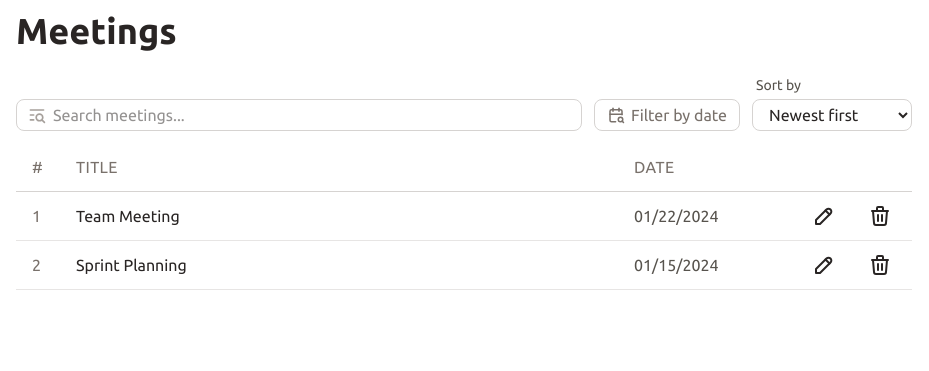
Scenario: MeetingList – date filter toggle › clicking the toggle again hides the date filter panel
This screenshot has width=929, height=371.
Click the button "Filter by date" at (667, 115), box [594,99,740,131]
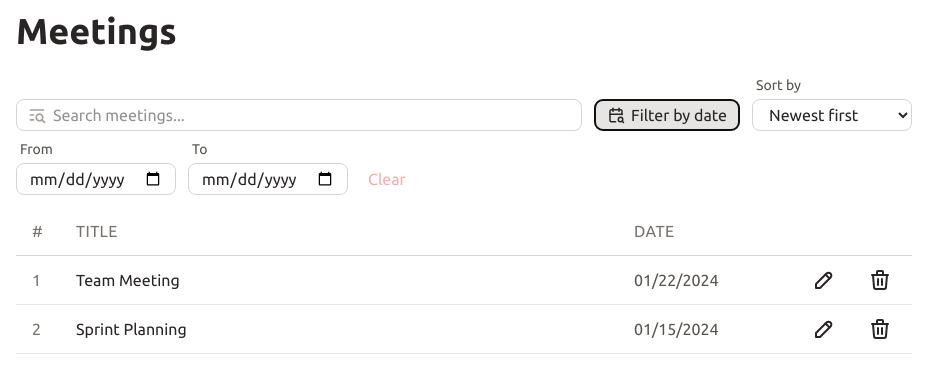
Click the button "Filter by date" at (667, 115), box [594,99,740,131]
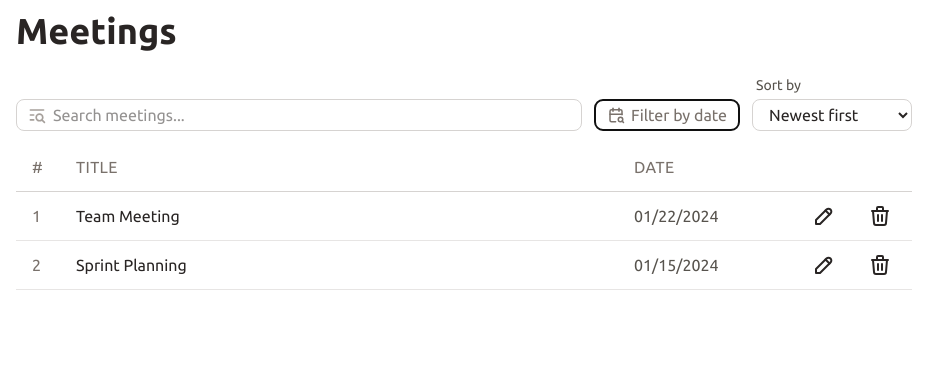
Expected: the label labelled "From" is gone
